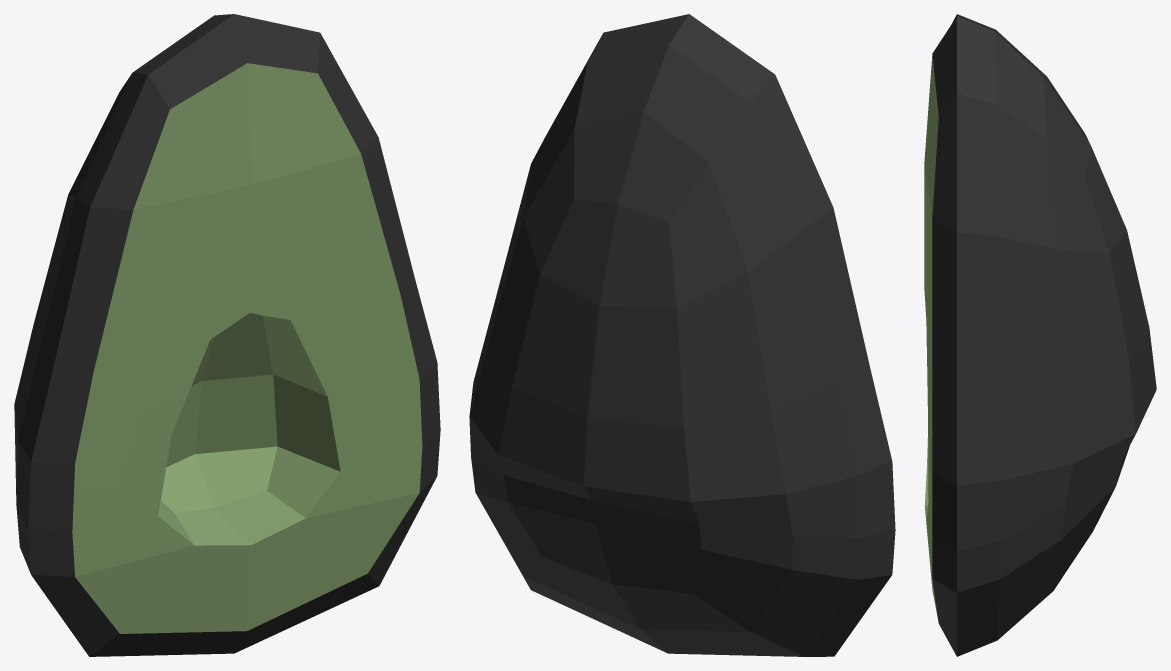
Rendered from avocado_empty.glb.
3 views of the same model, side by side, from view 1: azimuth 30°, elevation 25°; view 2: azimuth 150°, elevation 25°; view 3: azimuth 270°, elevation 25° (orthographic). The views are drawn at different scales.
Parts seen in each view (by area): view 1: Avocado_Empty; view 2: Avocado_Empty; view 3: Avocado_Empty.
Boxes of the visible parts, x1,y1,x2,y2 form: Avocado_Empty: [14, 14, 440, 656]; Avocado_Empty: [469, 14, 895, 656]; Avocado_Empty: [924, 14, 1156, 656].
Size of the model in its own units: 0.7384 by 1.09 by 0.3818.
